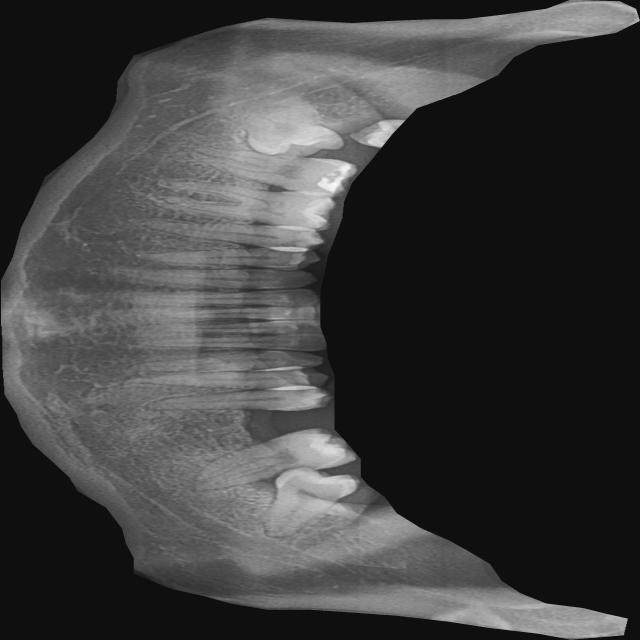mandibula: (0, 0, 639, 640)
